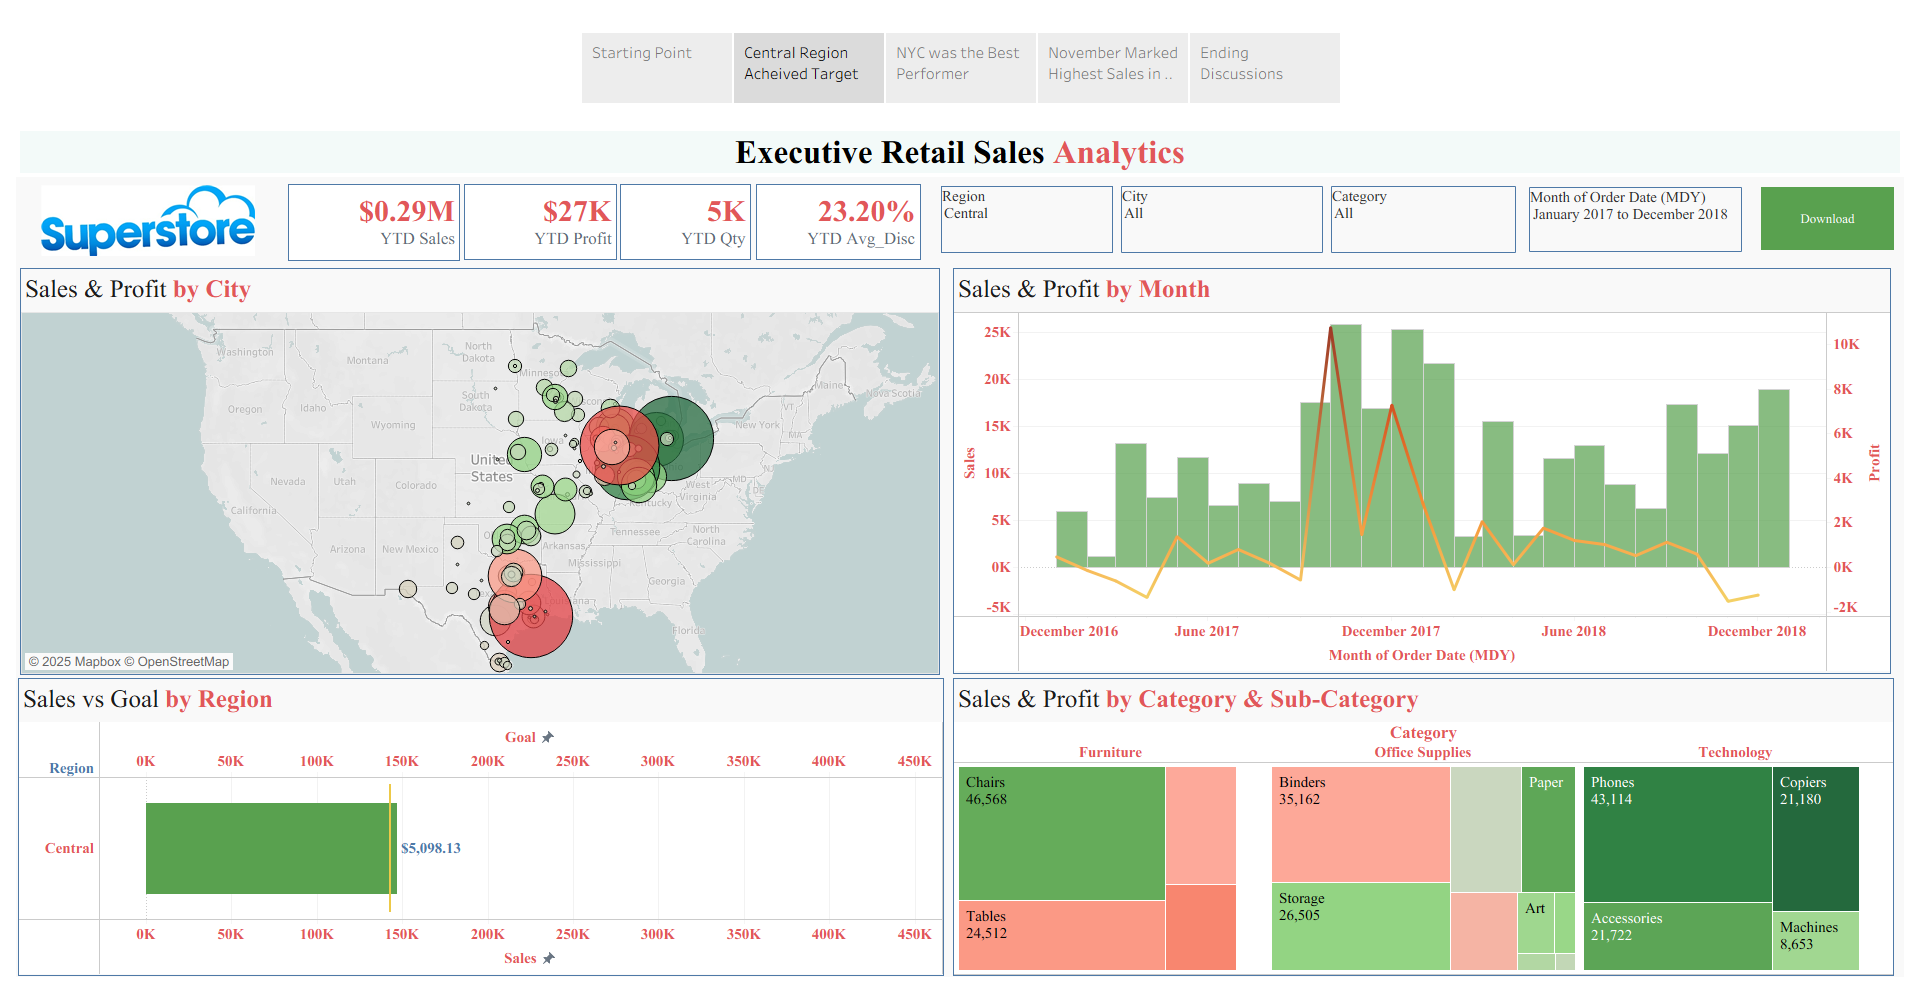

Layout of this report page (visuals, bound fields, positions):
{"tool":"tableau","page":{"name":"Dashboard","canvas":[1000,1000],"units":"permille","ordinal":0},"visuals":[{"type":"title","box":[4.8,10,990.3,62.4]},{"type":"worksheet","title":"Discount","mark":"Automatic","box":[360.9,61.2,81.5,101.1]},{"type":"worksheet","title":"Profit","mark":"Automatic","box":[228.1,62.4,62.8,91.1]},{"type":"worksheet","title":"Quantity","mark":"Automatic","box":[299.9,62.4,62.8,98.6]},{"type":"worksheet","title":"Sales","mark":"Automatic","box":[143,63.7,75.4,101.1]},{"type":"worksheet","title":"City_wise","mark":"Automatic","box":[446,73.7,546.2,559.3]},{"type":"image","param":"Image/superstore.jpg","box":[7.2,78.7,135.2,76.2]},{"type":"dashboard-object","box":[382.6,171,58.5,64.9]},{"type":"filter","title":"Tree_Map","param":"[federated.1f22b5c0wxcofl1f5gr9v0yenl70].[none:Category:nk]","box":[181.7,172.3,84.5,64.9]},{"type":"filter","title":"Time_series","param":"[federated.1f22b5c0wxcofl1f5gr9v0yenl70].[tmn:Order Date (MDY):qk]","box":[267.9,172.3,109.2,64.9]},{"type":"filter","title":"Target_vs_Achieved","param":"[federated.1f22b5c0wxcofl1f5gr9v0yenl70].[none:Region:nk]","box":[7.2,173.5,74.8,62.4]},{"type":"filter","title":"City_wise","param":"[federated.1f22b5c0wxcofl1f5gr9v0yenl70].[none:City:nk]","box":[83.3,173.5,94.8,64.9]},{"type":"worksheet","title":"Target_vs_Achieved","mark":"Automatic","rows":["Region"],"cols":["Sales","Goal"],"box":[7.2,245.9,433.9,384.5]},{"type":"worksheet","title":"Time_series","mark":"Automatic","rows":["Sales","Profit"],"cols":["Order Date (MDY)"],"box":[6,638,516.8,352.1]},{"type":"worksheet","title":"Tree_Map","mark":"Automatic","cols":["Category"],"box":[526.4,638,464,352.1]}]}

Visuals, with their boxes on the dashboard's canvas, which has no fixed pixel size, in thousandths of its width and height (x1, y1, x2, y2). These are canvas units, not pixel positions in the 1920x993 screenshot, which may show the page scaled, cropped or inside an application window:
title: Rect(5, 10, 995, 72)
"Discount" worksheet: Rect(361, 61, 442, 162)
"Profit" worksheet: Rect(228, 62, 291, 154)
"Quantity" worksheet: Rect(300, 62, 363, 161)
"Sales" worksheet: Rect(143, 64, 218, 165)
"City_wise" worksheet: Rect(446, 74, 992, 633)
image: Rect(7, 79, 142, 155)
dashboard-object: Rect(383, 171, 441, 236)
"Tree_Map" filter: Rect(182, 172, 266, 237)
"Time_series" filter: Rect(268, 172, 377, 237)
"Target_vs_Achieved" filter: Rect(7, 174, 82, 236)
"City_wise" filter: Rect(83, 174, 178, 238)
"Target_vs_Achieved" worksheet: Rect(7, 246, 441, 630)
"Time_series" worksheet: Rect(6, 638, 523, 990)
"Tree_Map" worksheet: Rect(526, 638, 990, 990)
